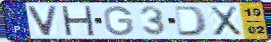3: (138, 5, 167, 37)
D: (173, 5, 210, 37)
G: (103, 5, 135, 37)
H: (60, 5, 97, 37)
V: (26, 5, 59, 37)
X: (208, 5, 244, 37)
